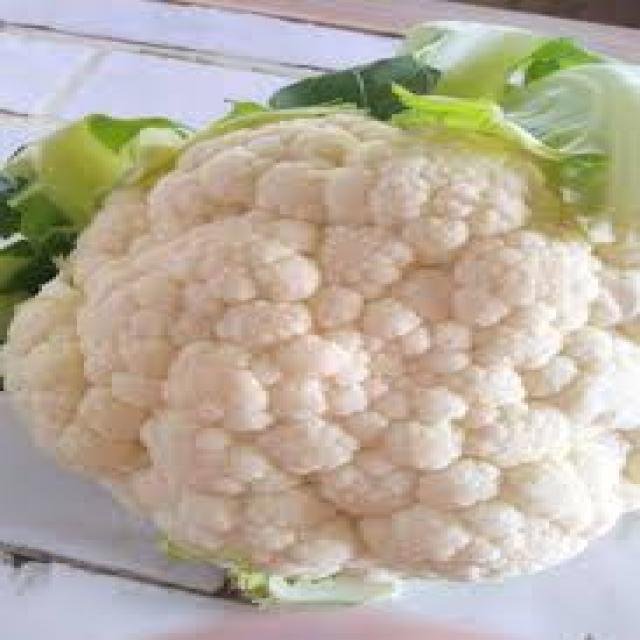organic waste: (0, 107, 637, 607), (217, 19, 636, 258), (0, 107, 189, 340)
